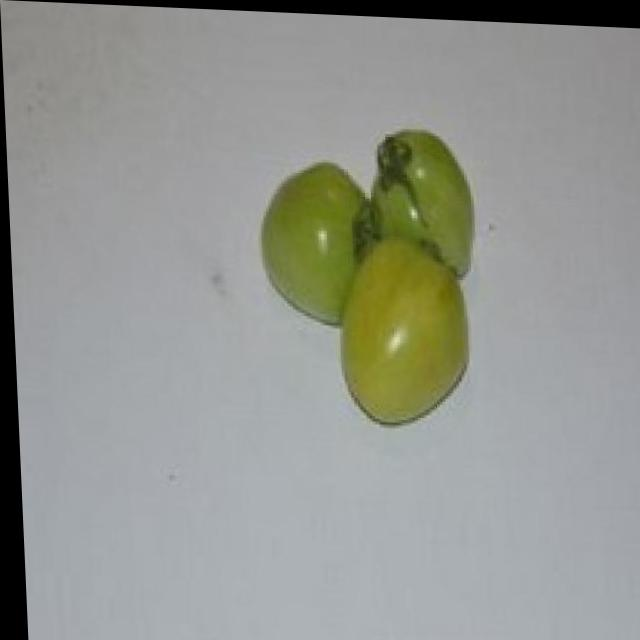yesil: (223, 88, 559, 435)
